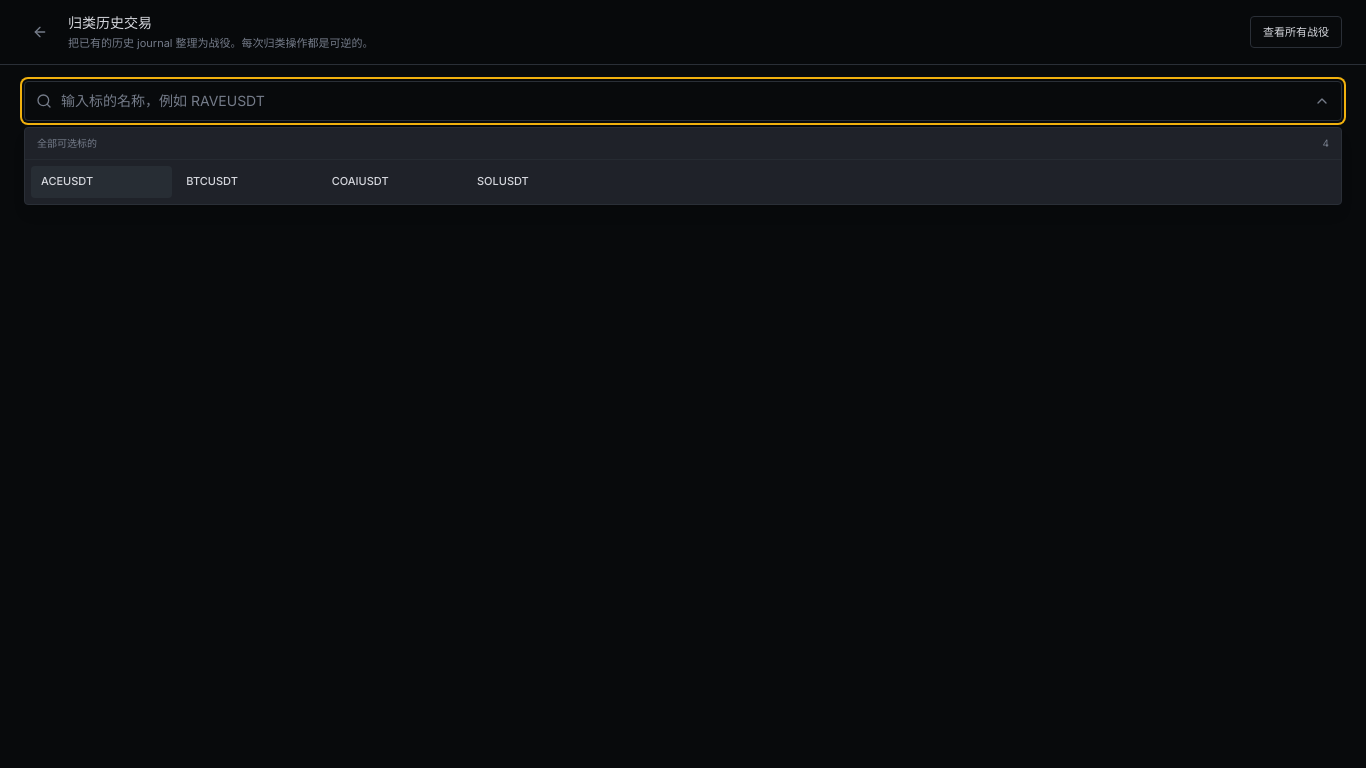
Test: JournalCampaignClassifyPage › restores the classification workspace after choosing a symbol
Click the option "BTCUSDT".
click(247, 182)  # box x1=176 y1=166 x2=318 y2=198
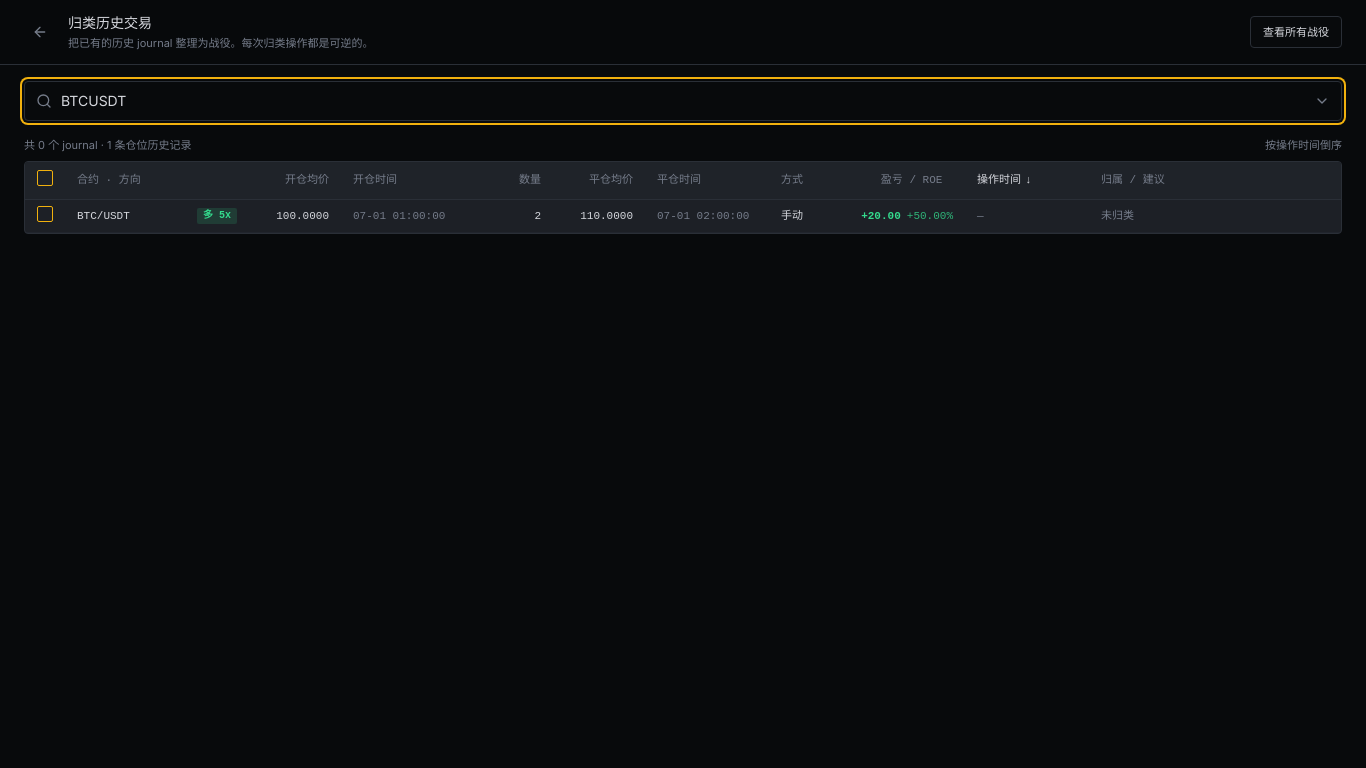
Check: the dropdown named "标的名称" holds "BTCUSDT", box x1=24 y1=80 x2=1342 y2=120
Check: the table is shown, box x1=25 y1=162 x2=1341 y2=233
Check: the text "BTC/USDT" is shown, box x1=77 y1=208 x2=130 y2=224
Click the checkbox next to "BTC/USDT".
click(45, 214)  # box x1=37 y1=206 x2=53 y2=222
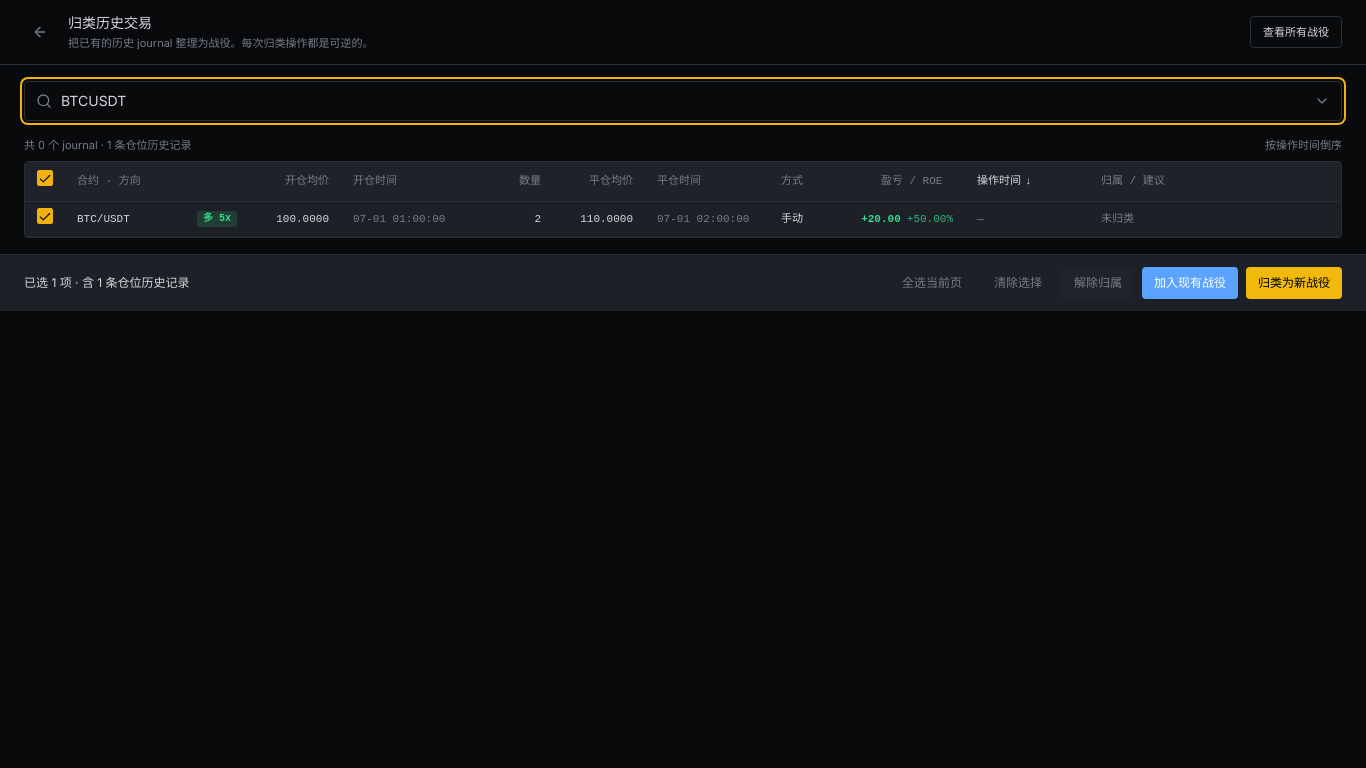
Check: the button "加入现有战役" is shown, box x1=1142 y1=267 x2=1238 y2=299
Check: the button "归类为新战役" is shown
Click the button "归类为新战役".
click(1294, 283)  # box x1=1246 y1=267 x2=1342 y2=299
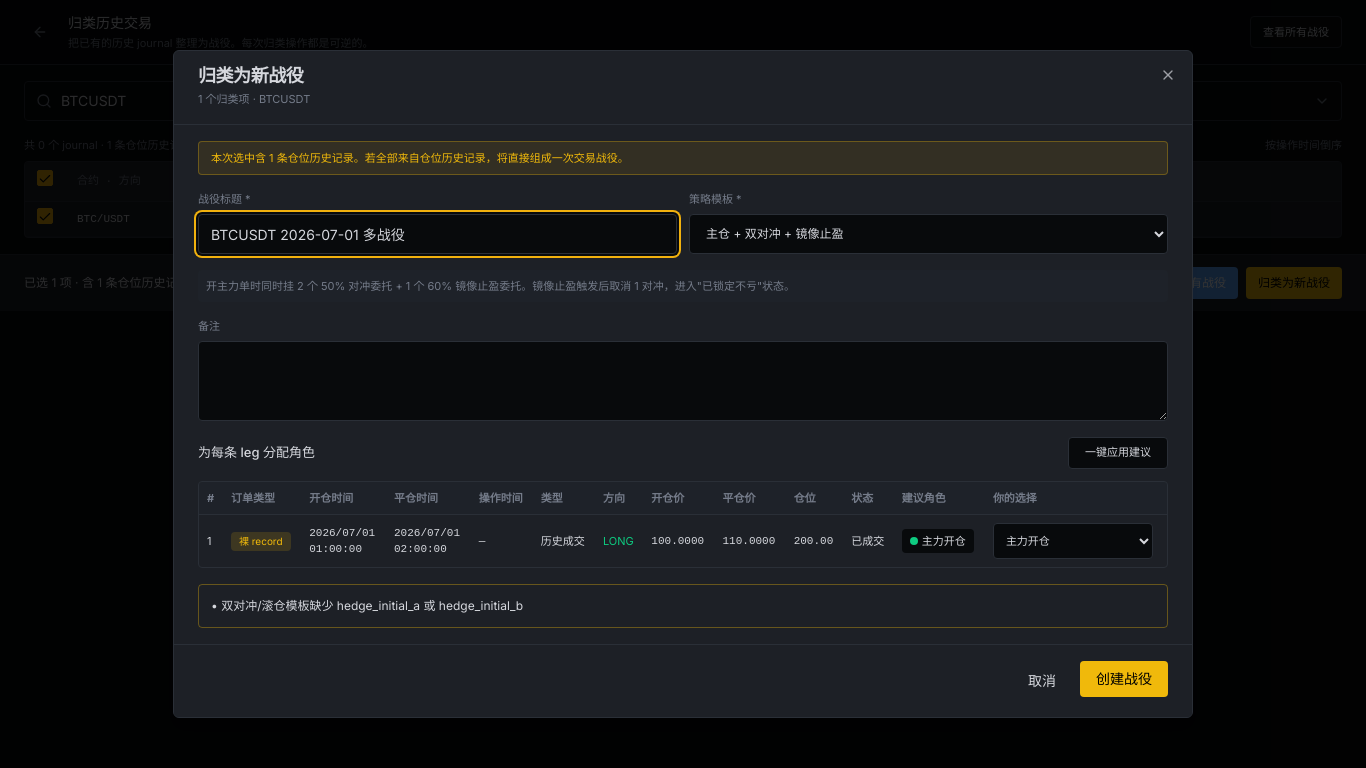
Check: the heading "归类为新战役" is shown, box x1=198 y1=65 x2=303 y2=86
Check: the text "1 个归类项 · BTCUSDT" is shown, box x1=198 y1=92 x2=310 y2=106
